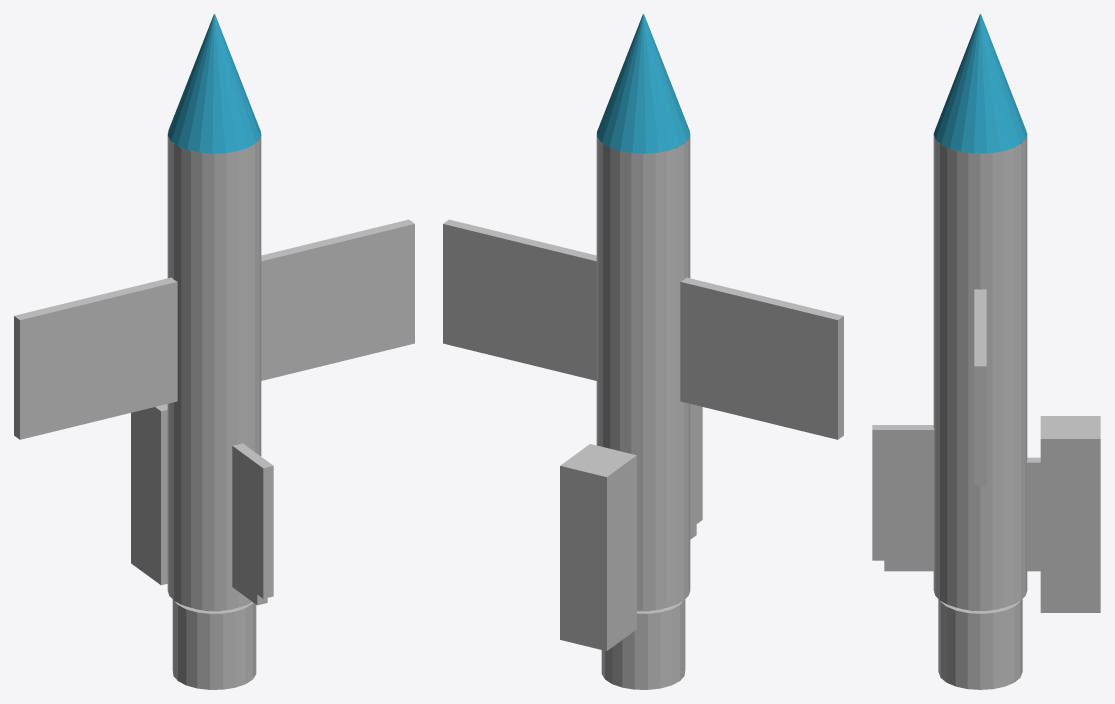
The model's file is cruise_missile.obj.
3 renders of one model, left to right at view 1: azimuth 30°, elevation 25°; view 2: azimuth 150°, elevation 25°; view 3: azimuth 270°, elevation 25°, orthographic.
Parts seen in each view (by area): view 1: cruise_missile; view 2: cruise_missile; view 3: cruise_missile.
Part boxes in pixels (<box>): cruise_missile: <box>14,14,414,689</box>; cruise_missile: <box>443,14,843,689</box>; cruise_missile: <box>872,14,1100,689</box>.
Size of the model in its own units: 1.66 by 2.64 by 0.8284.
